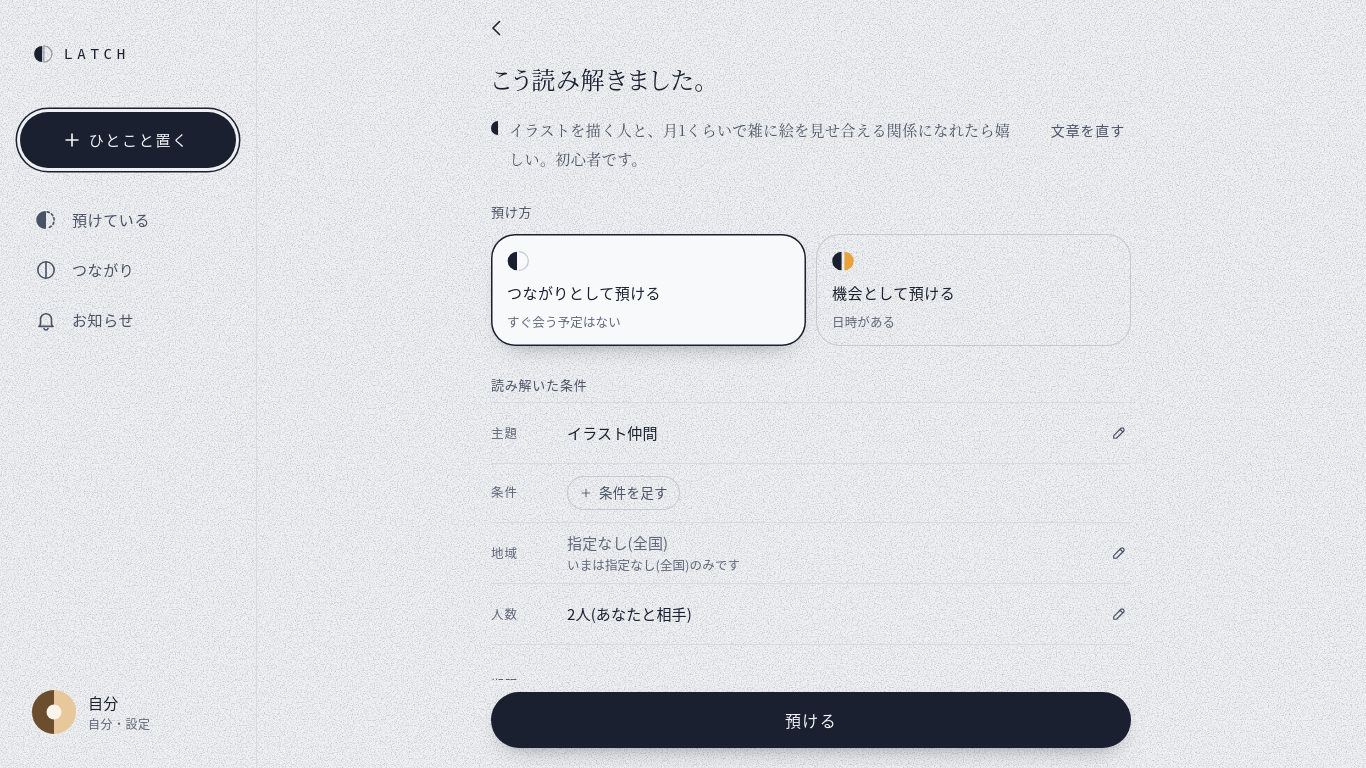
Test case: Confirm(条件の編集) › 条件chipsを足して・外せる
Click the button "条件を足す". click: (623,493)
box: x1=567 y1=476 x2=680 y2=510
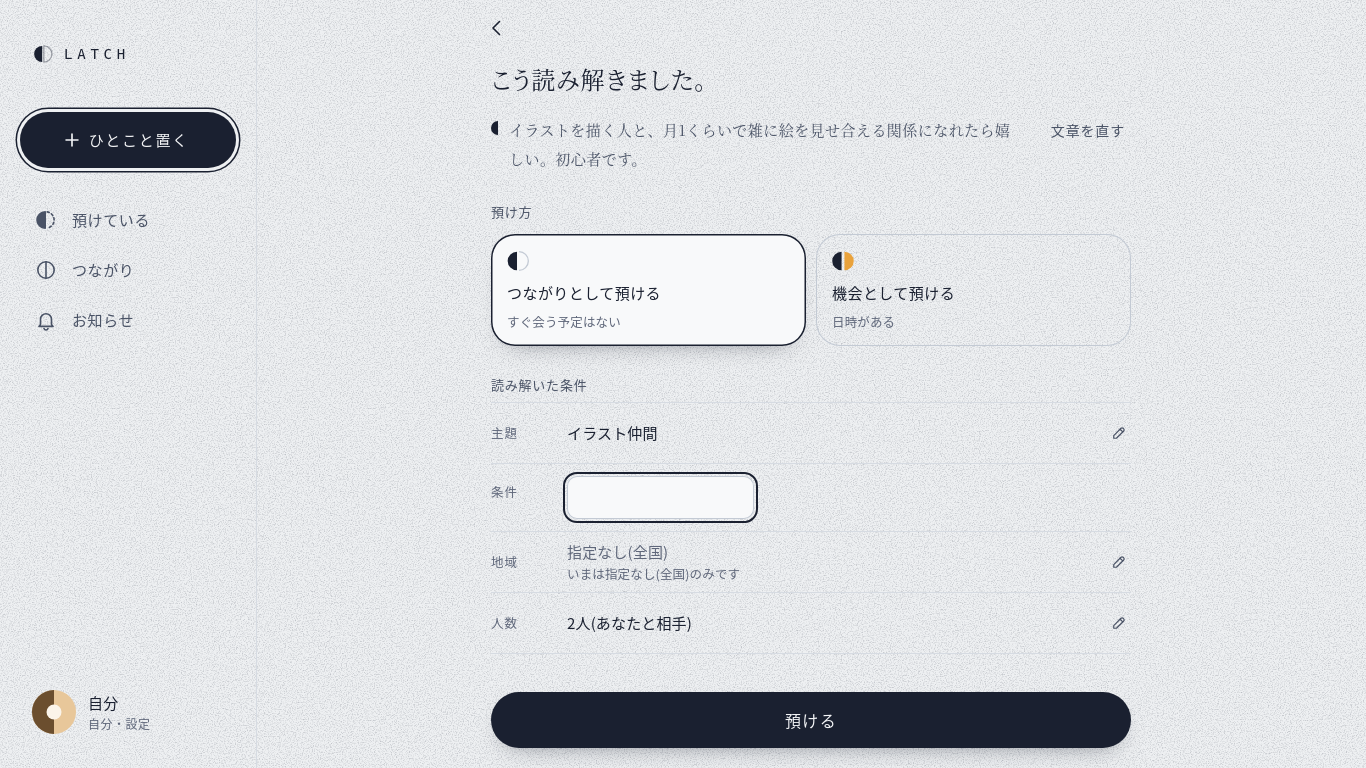
Type "初心者歓迎" into the field named "条件を入力". click: (660,497)
box: x1=567 y1=476 x2=754 y2=519
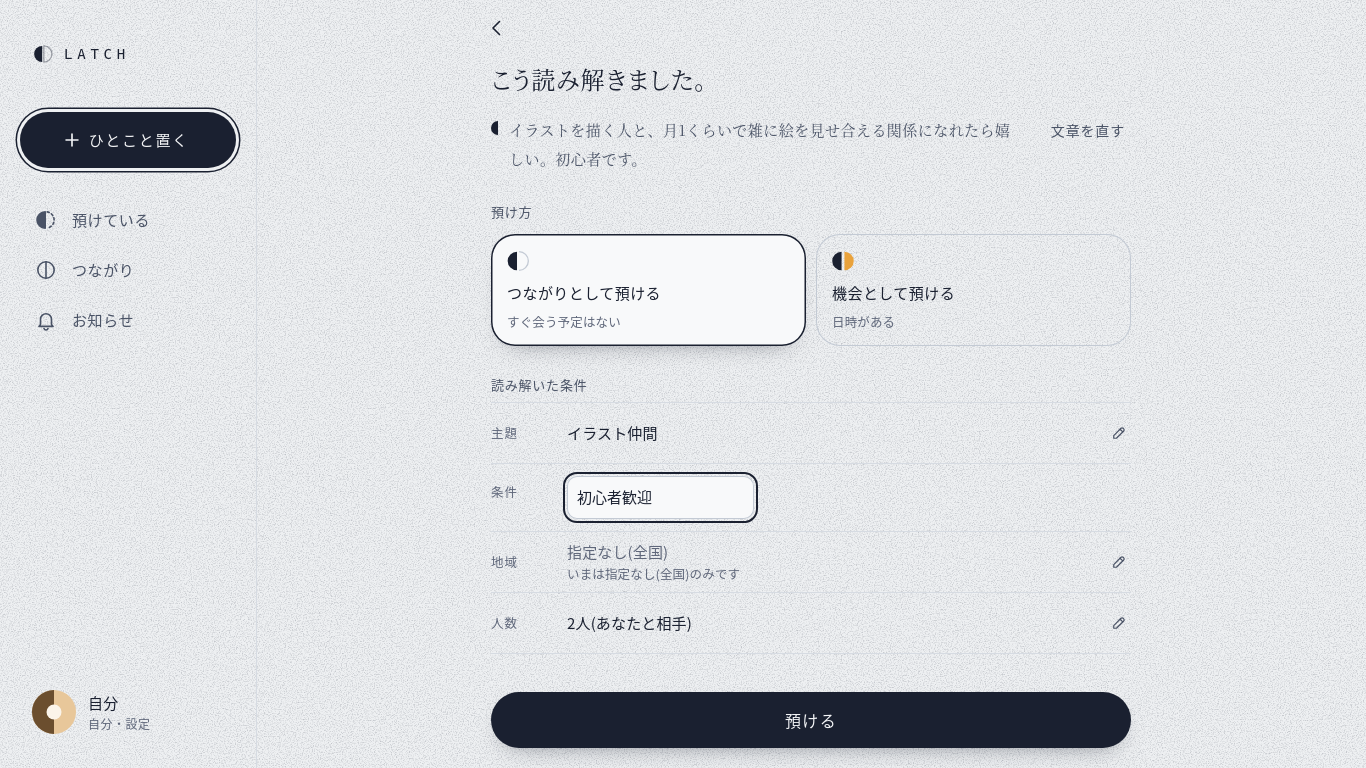
Press Enter in the field named "条件を入力", box x1=567 y1=476 x2=754 y2=519
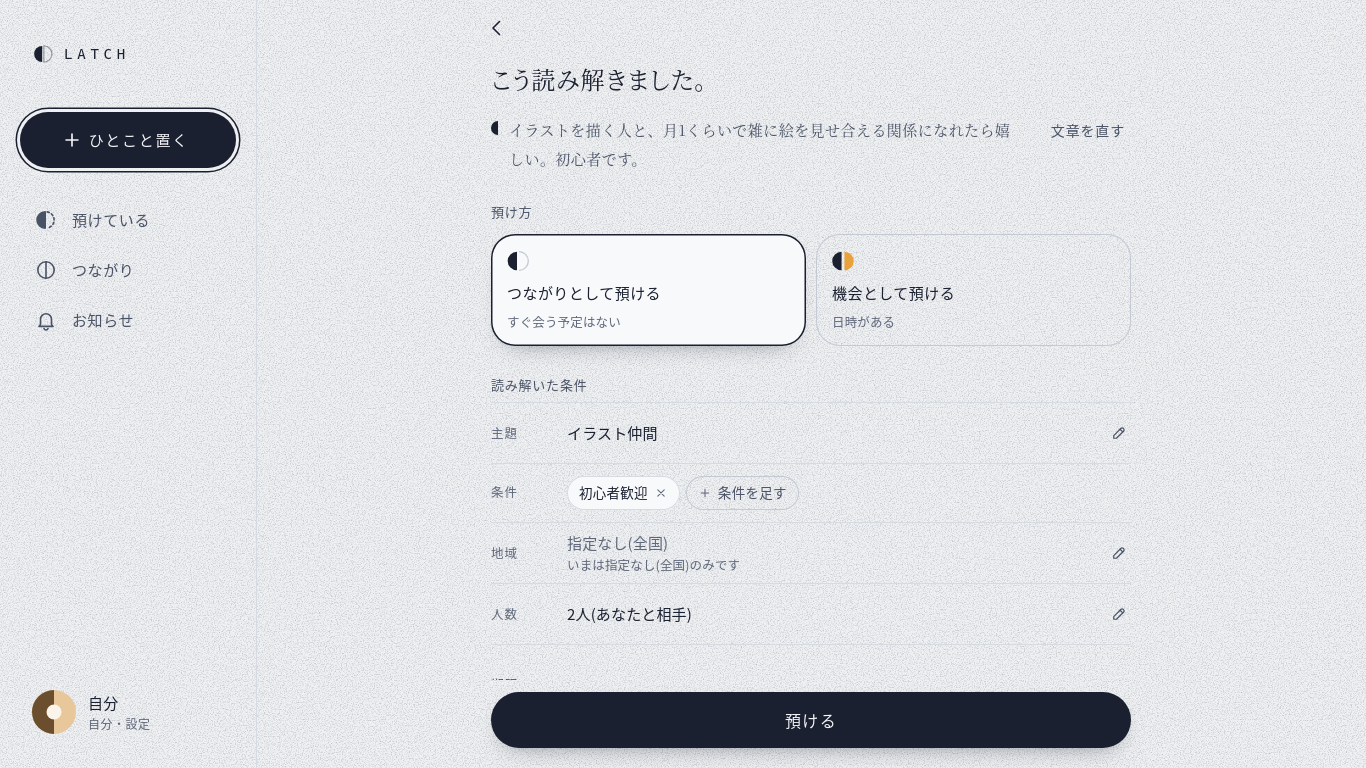
Result: the button with aria-label "初心者歓迎を外す" is shown
Click the button with aria-label "初心者歓迎を外す". click: (623,493)
box: x1=567 y1=476 x2=680 y2=510
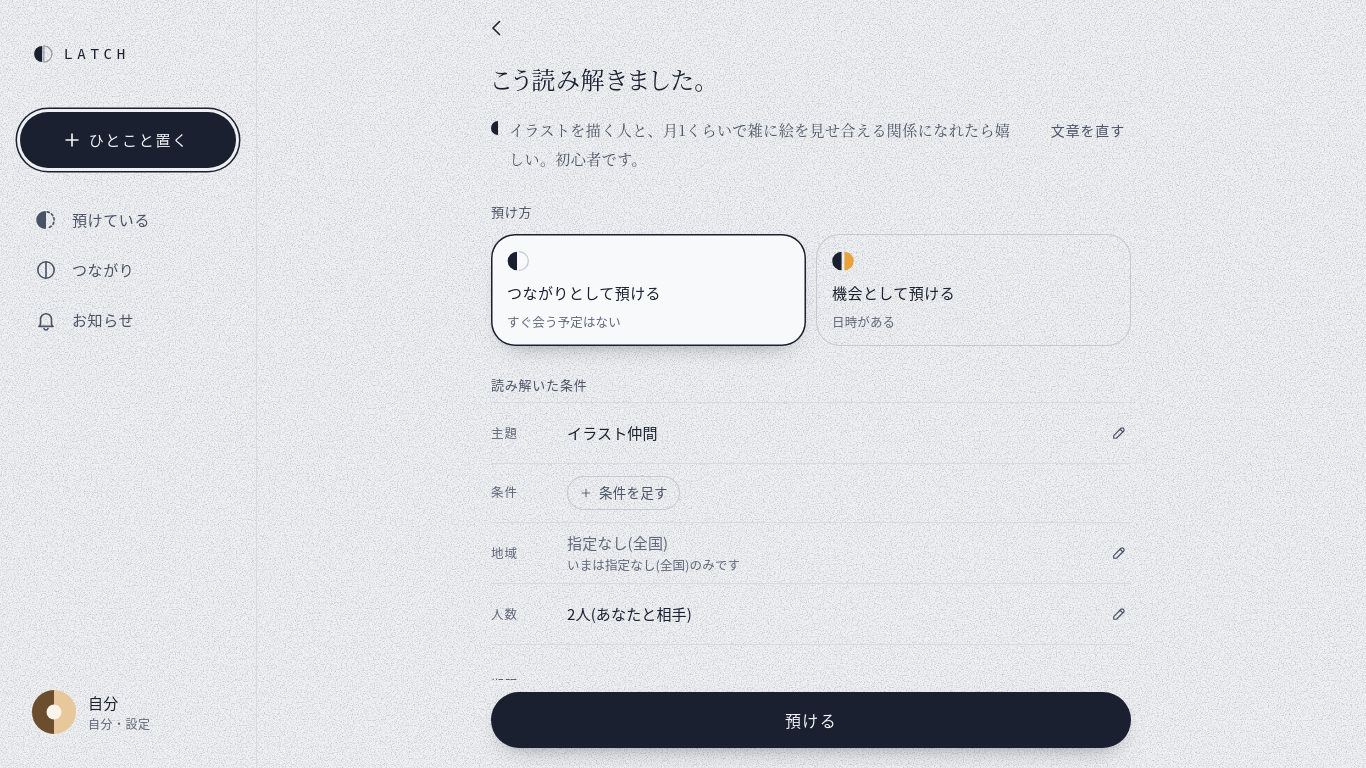
Result: the button "初心者歓迎を外す" is gone
